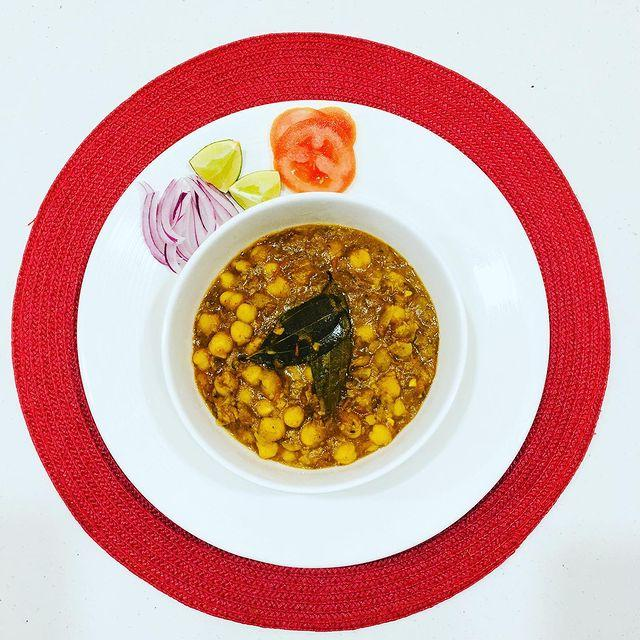Chole: (205, 325, 342, 463)
